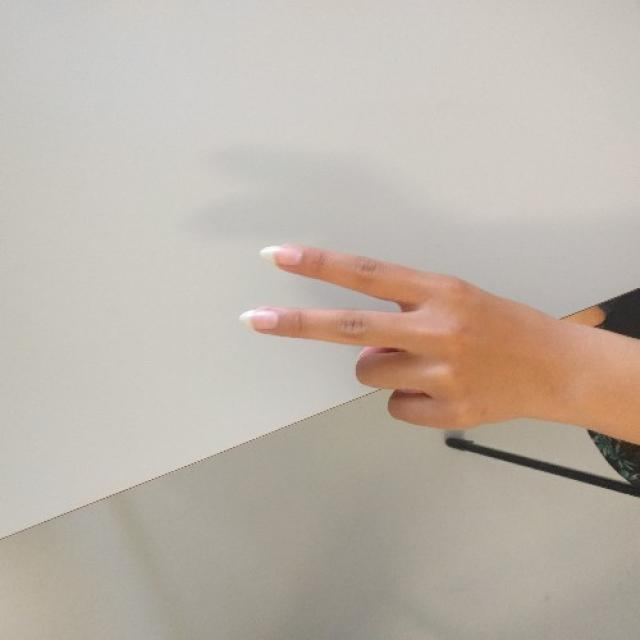scissors: (238, 238, 518, 431)
